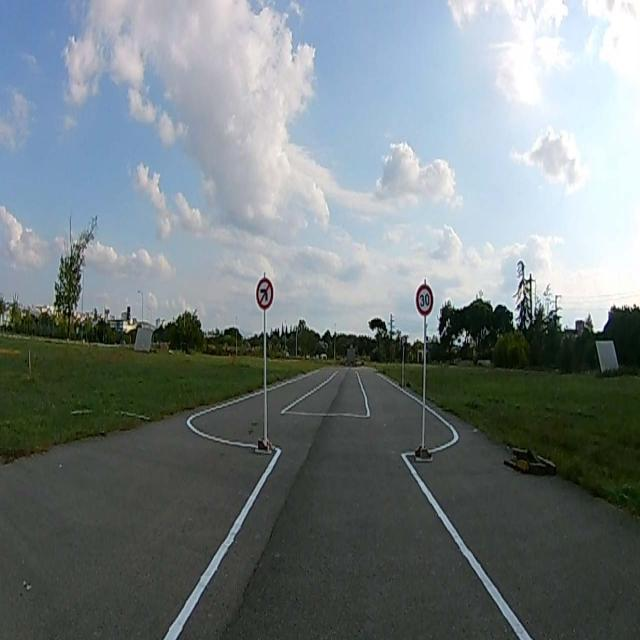30: (416, 285, 434, 315)
soladonulmez: (257, 278, 273, 310)
